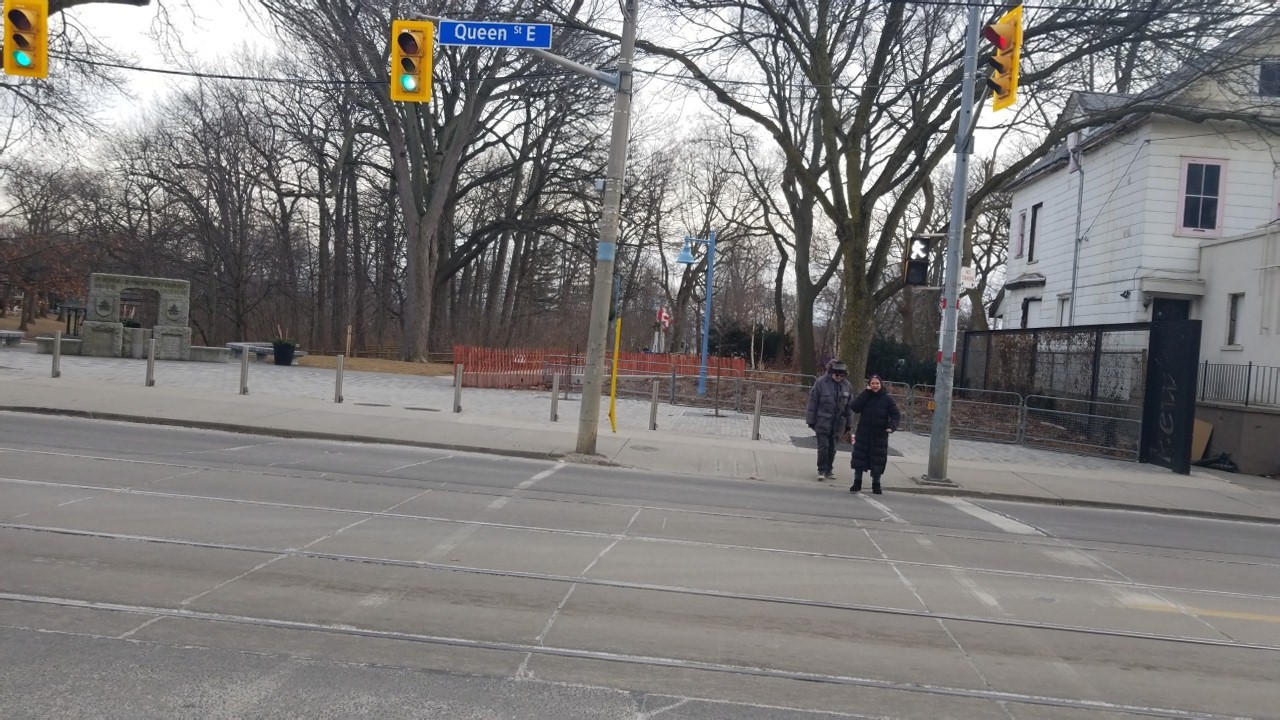light: (902, 232, 933, 290)
